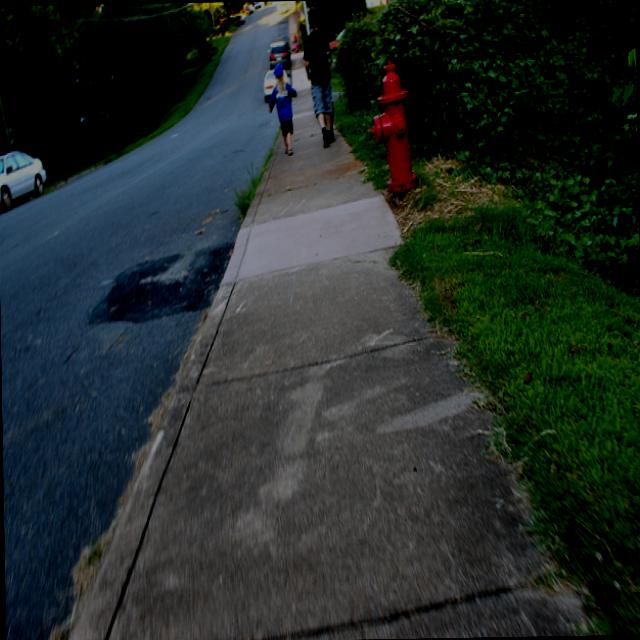Vehicle: (0, 147, 48, 211), (263, 68, 292, 102), (269, 41, 291, 67), (328, 28, 346, 52), (234, 14, 244, 26), (252, 1, 265, 9)
